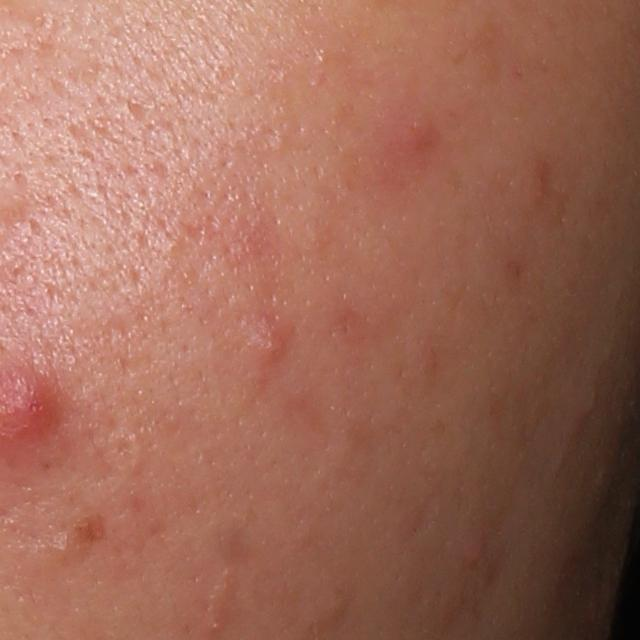papule: (252, 316, 286, 362), (459, 531, 492, 570)
